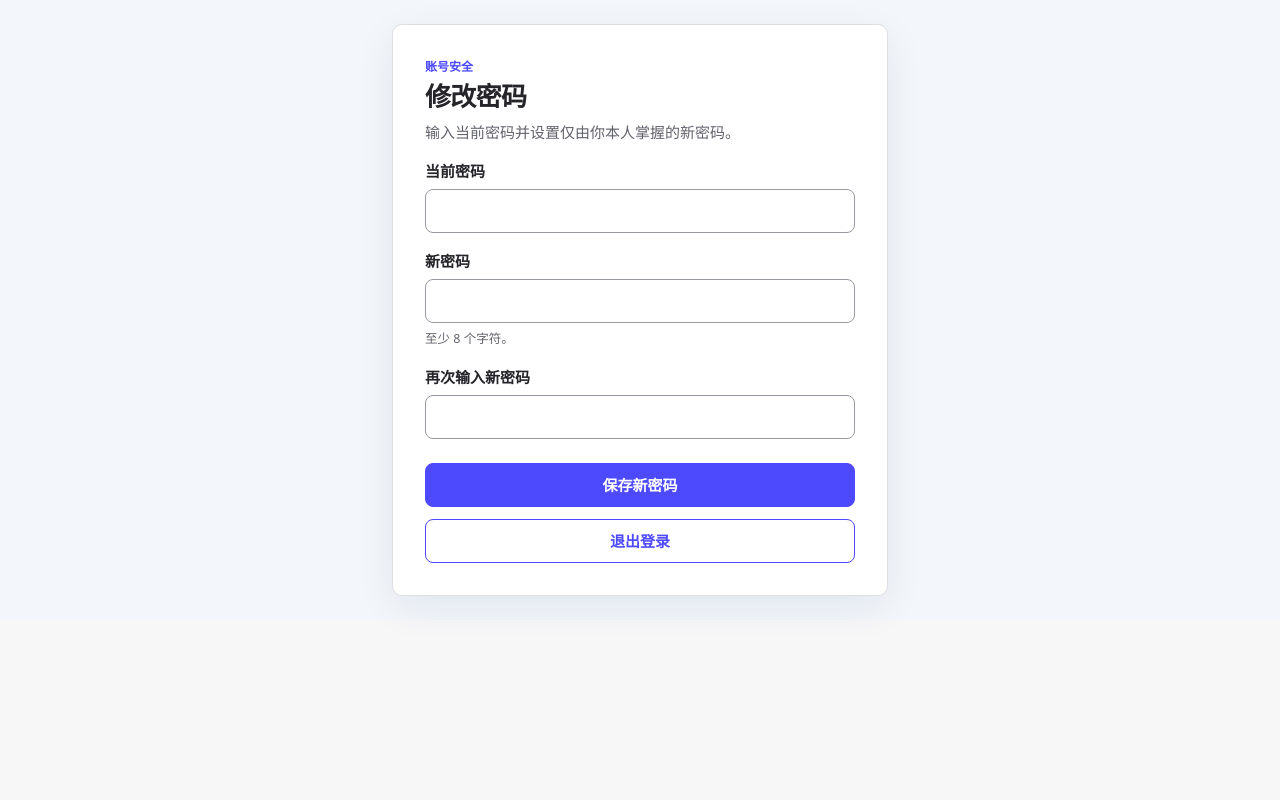
Test: PasswordChangePage › shows structured password validation reasons instead of only the generic API message
The image size is (1280, 800).
In the password field named "current_password": [640, 211] box [425,189,855,233], type "current-password"
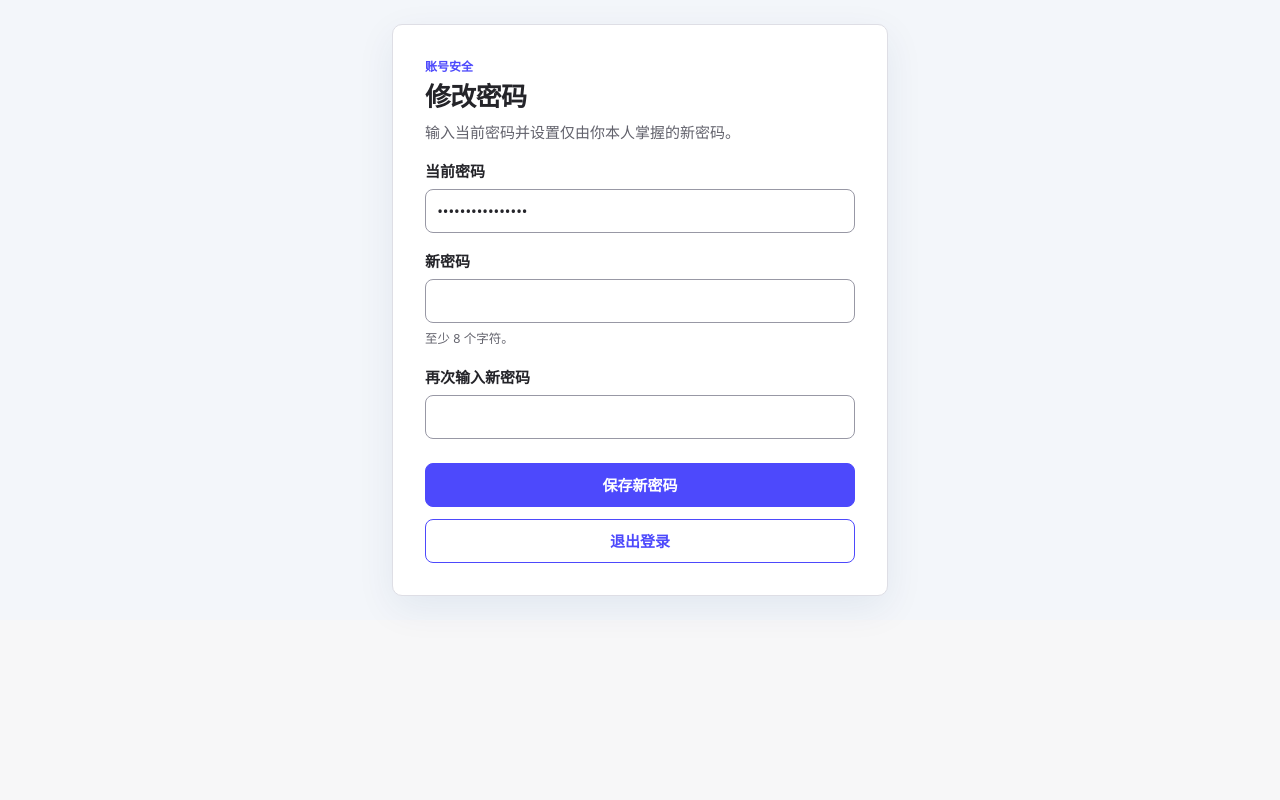
In the password field named "new_password1": [640, 301] box [425,279,855,323], type "Same-password"
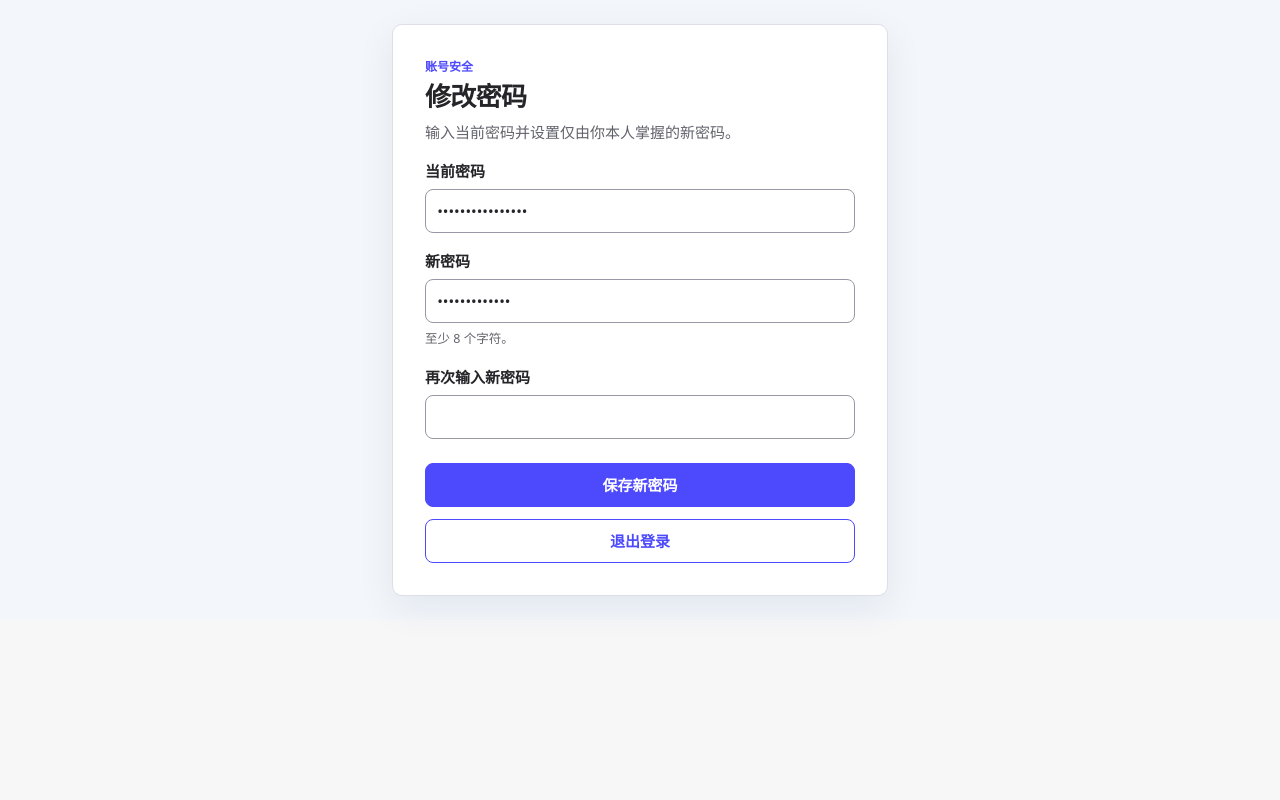
In the password field named "new_password2": [640, 417] box [425,395,855,439], type "Different-password"
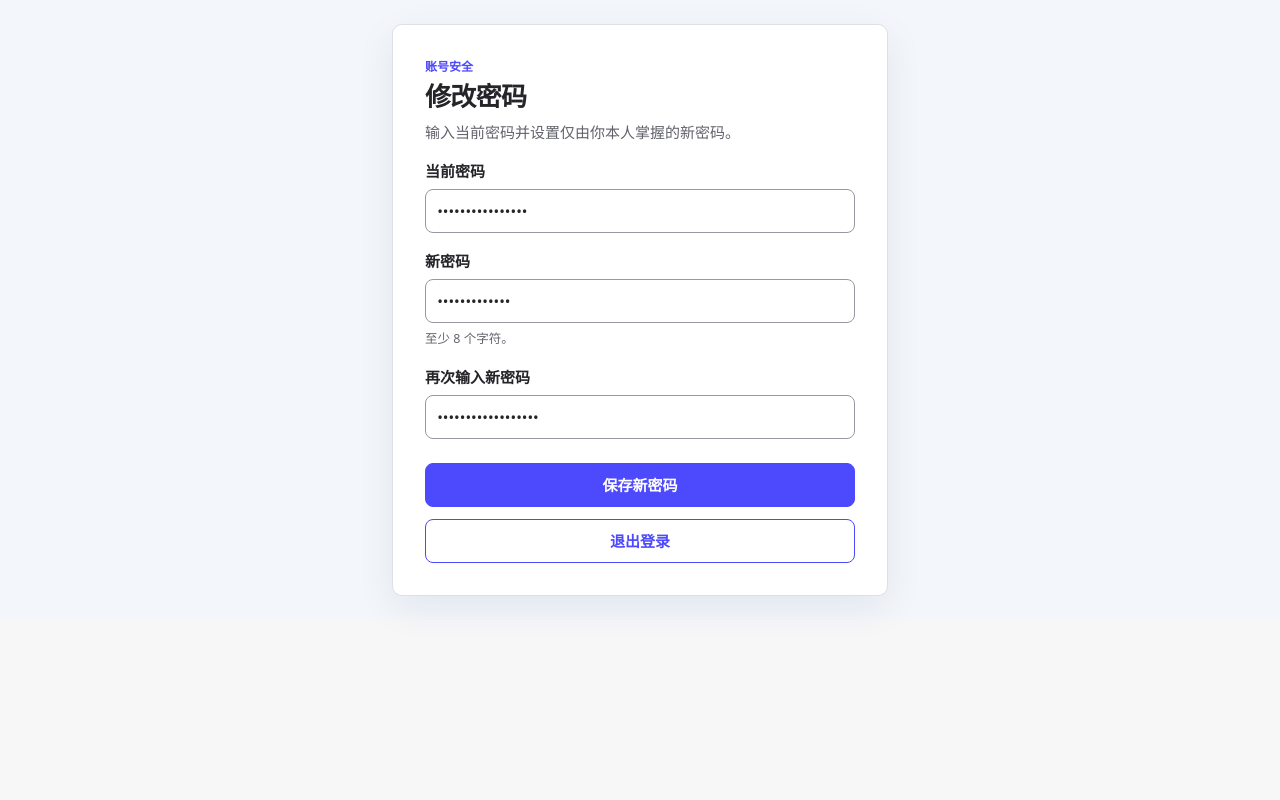
Submit the form, box [425,159,855,507]
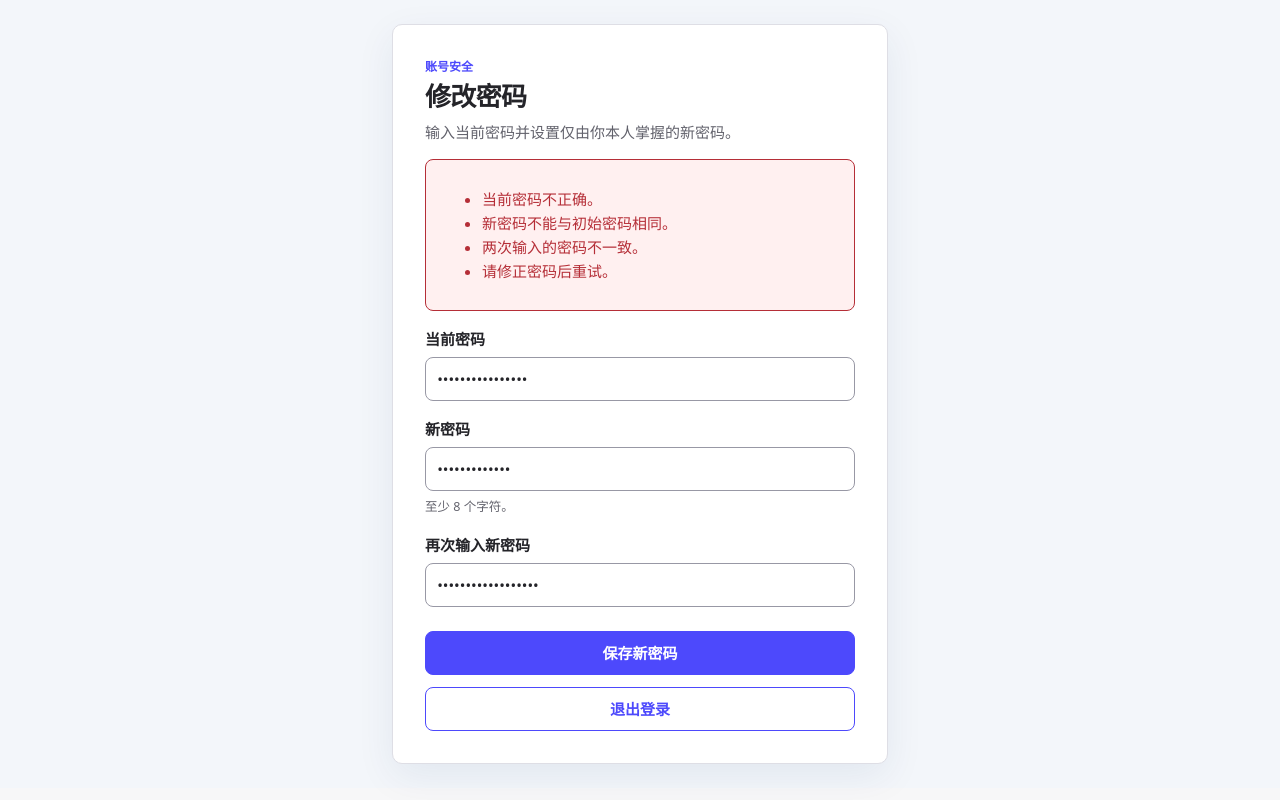
expect the message "当前密码不正确。 新密码不能与初始密码相同。 两次输入的密码不一致。 请修正密码后重试。" is shown: met, box [425,159,855,311]
